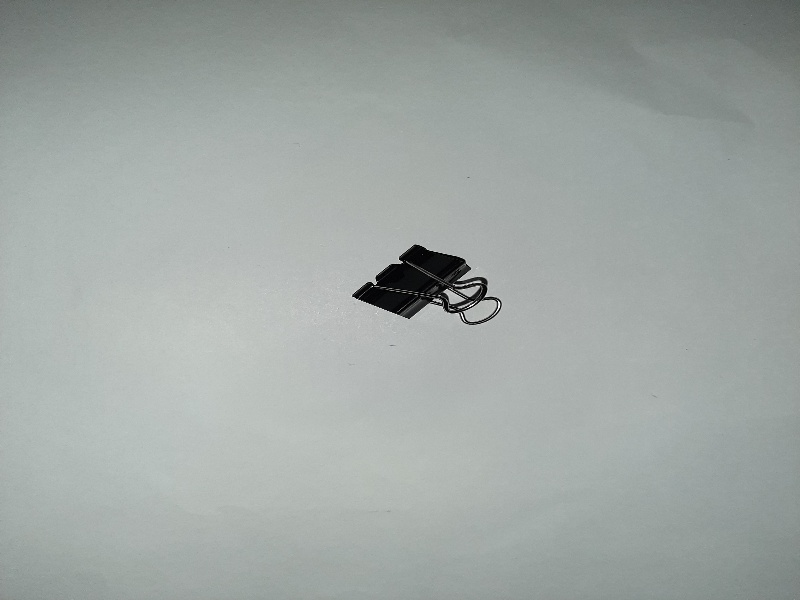Big Paperclip: (343, 229, 506, 332)
